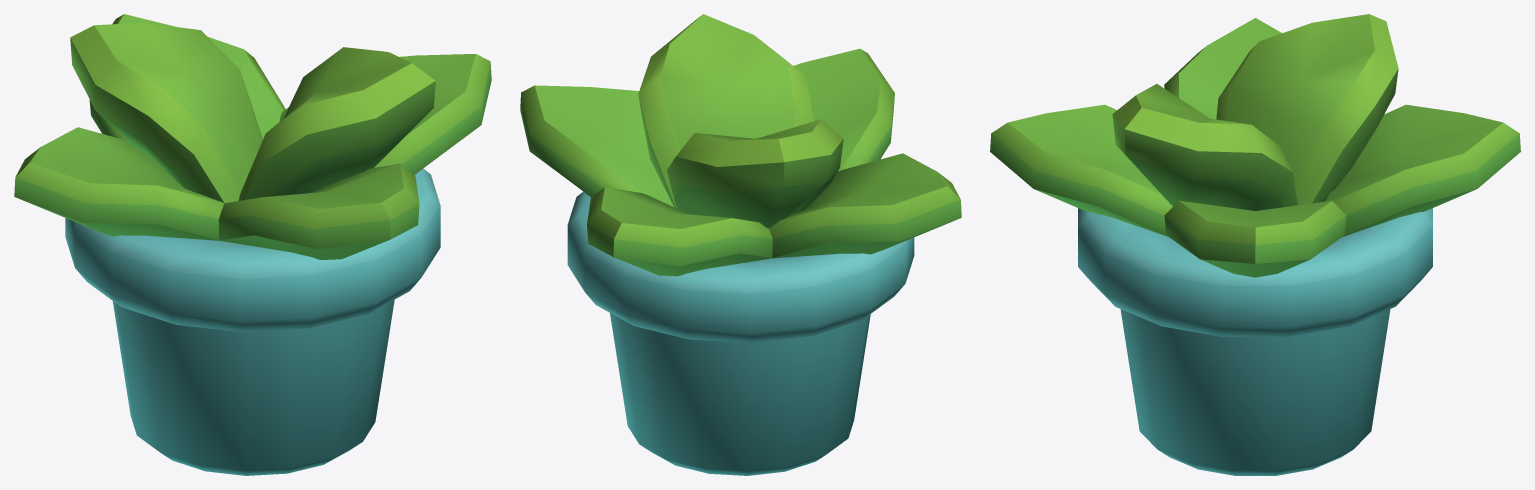
File: Plant.glb
The picture shows the model from 3 angles, left to right: view 1: azimuth 30°, elevation 25°; view 2: azimuth 150°, elevation 25°; view 3: azimuth 270°, elevation 25°; orthographic projection. The views are drawn at different scales.
Visible parts, largest first — view 1: plant; view 2: plant; view 3: plant.
Part boxes in pixels (left/top/right/bottom): plant: left=14, top=14, right=491, bottom=475; plant: left=520, top=14, right=961, bottom=475; plant: left=990, top=14, right=1520, bottom=475.
Size of the model in its own units: 0.8225 by 0.6365 by 0.8225.
Materials: 1 (1 with a texture image).
